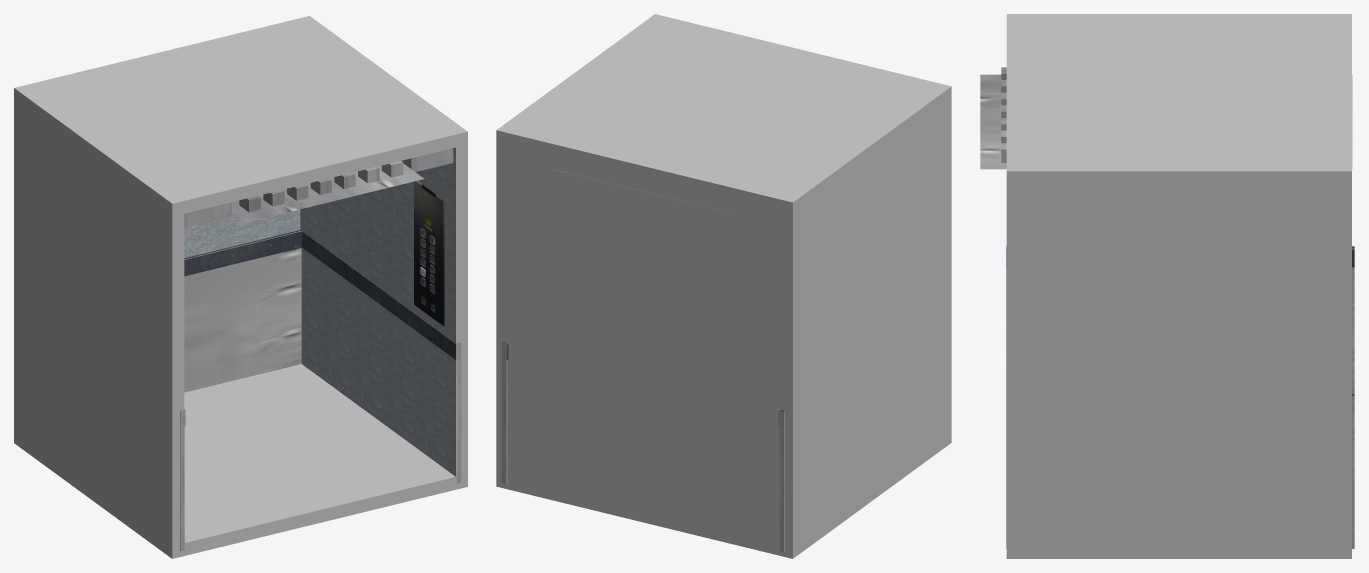
Rendered from ELEVADOR.fbx.
3 renders of one model, left to right at view 1: azimuth 30°, elevation 25°; view 2: azimuth 150°, elevation 25°; view 3: azimuth 270°, elevation 25°, orthographic. The views are drawn at different scales.
Parts seen in each view (by area): view 1: Cube.293, Cube.354, Cube.352, Cube.353, Cube.356, Plane.141, Cube.355, Plane.143; view 2: Cube.293, Cube.356, Cube.355; view 3: Cube.293, Cube.352, Cube.356, Cube.355.
Boxes of the visible parts, x1,y1,x2,y2 form: Cube.293: (14,16,467,558); Cube.354: (184,230,301,392); Cube.352: (232,160,424,222); Cube.353: (414,180,444,326); Cube.356: (302,231,461,483); Plane.141: (184,202,231,228); Cube.355: (180,409,185,551); Plane.143: (401,148,453,171); Cube.293: (496,14,951,558); Cube.356: (501,342,508,484); Cube.355: (778,409,784,551); Cube.293: (1006,14,1351,558); Cube.352: (980,67,1006,169); Cube.356: (1006,393,1354,548); Cube.355: (1006,246,1354,393).
Size of the model in its own units: 694 by 835 by 698.
